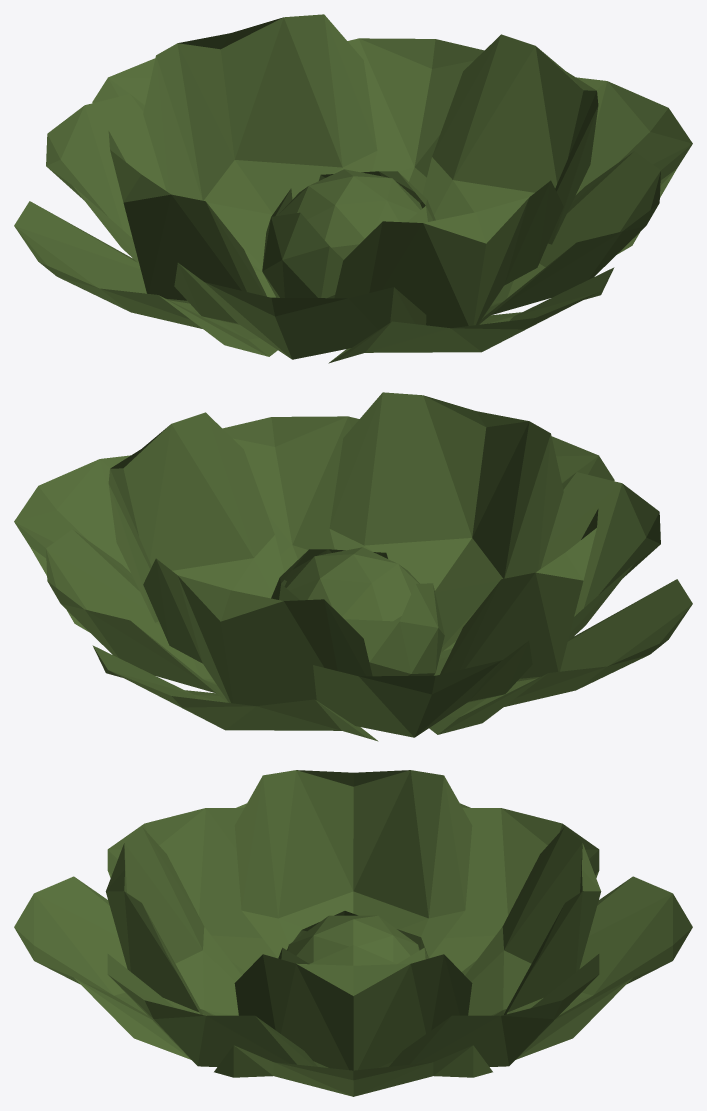
Rendered from flowering.fbx.
3 views of the same model, one above another, from view 1: azimuth 30°, elevation 25°; view 2: azimuth 150°, elevation 25°; view 3: azimuth 270°, elevation 25° (orthographic). The views are drawn at different scales.
Parts seen in each view (by area): view 1: flowering; view 2: flowering; view 3: flowering.
Boxes of the visible parts, x1,y1,x2,y2 form: flowering: (14, 14, 692, 363); flowering: (14, 392, 692, 741); flowering: (14, 770, 692, 1096).
Size of the model in its own units: 425 by 140 by 425.
